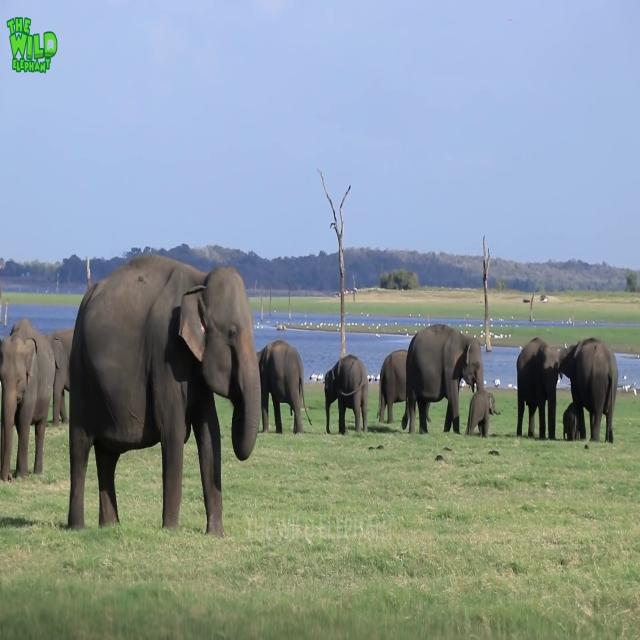Elephant: (67, 252, 261, 538), (402, 323, 484, 435), (0, 317, 55, 481), (558, 336, 618, 443), (256, 339, 312, 434), (516, 336, 567, 440), (324, 354, 368, 435), (45, 328, 74, 426), (465, 389, 500, 438)
